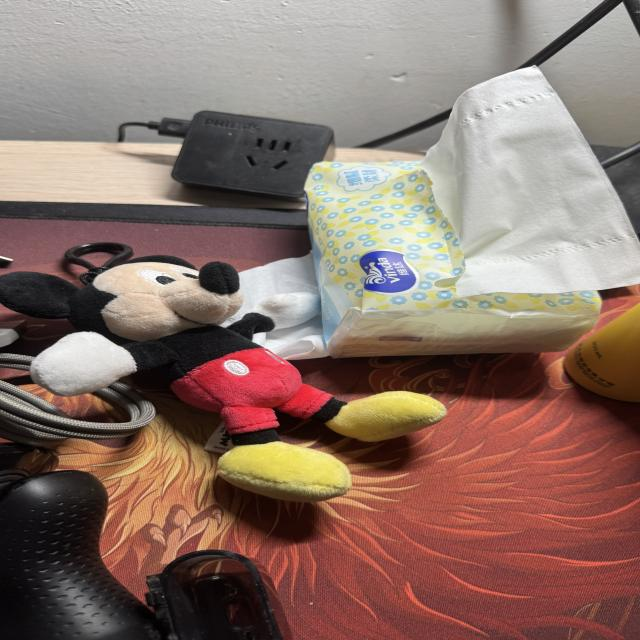mickey: (0, 256, 445, 501)
tissue: (307, 162, 600, 357), (422, 67, 639, 296)
